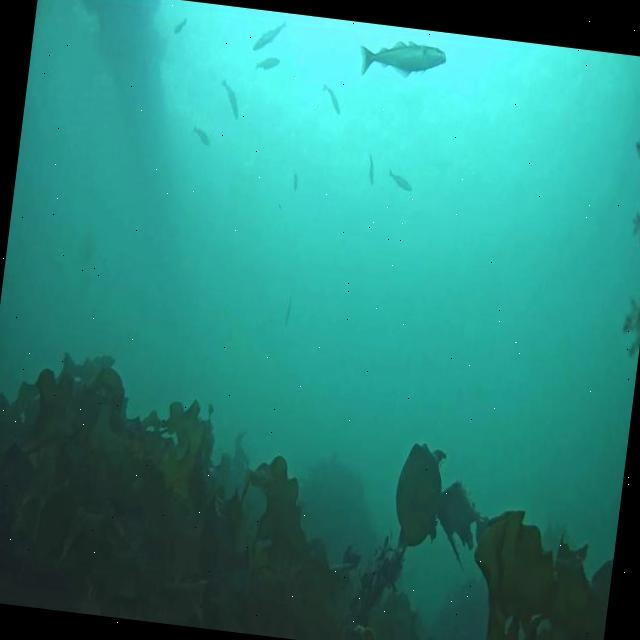fish: (359, 36, 447, 78), (249, 15, 287, 58), (218, 80, 245, 122), (318, 83, 344, 117), (389, 166, 415, 193), (252, 54, 280, 74), (365, 148, 377, 186), (189, 129, 211, 148), (173, 16, 190, 40), (289, 170, 301, 192), (284, 300, 294, 324)
